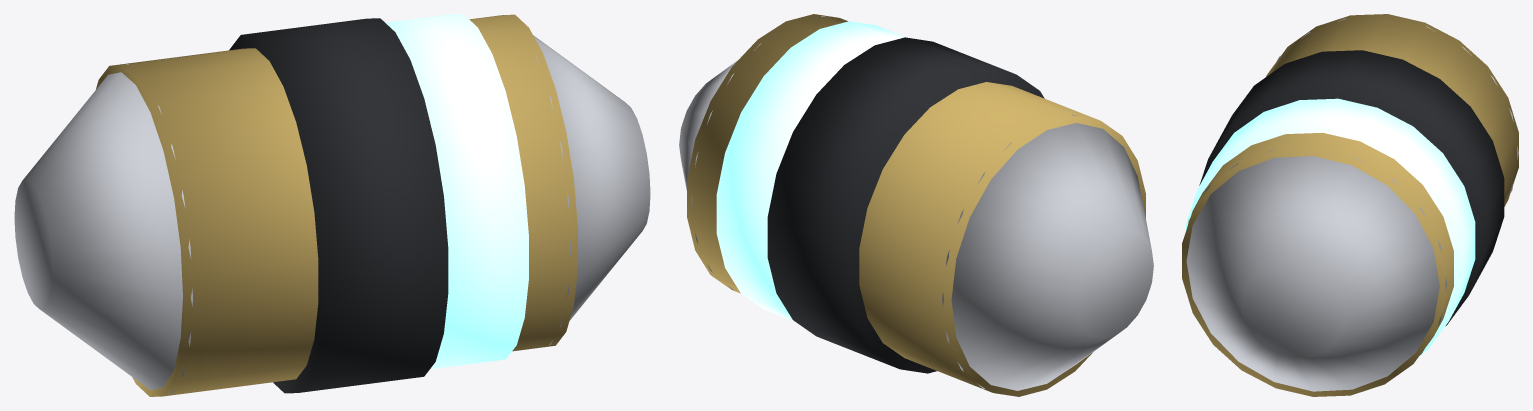
The picture shows the model from 3 angles, left to right: view 1: azimuth 30°, elevation 25°; view 2: azimuth 150°, elevation 25°; view 3: azimuth 270°, elevation 25°; orthographic projection. The views are drawn at different scales.
Visible parts, largest first — view 1: mta_cap_t3_body, mta_cap_t3_band, mta_cap_t3_nose_0, mta_cap_t3_win, mta_cap_t3_nose_1; view 2: mta_cap_t3_body, mta_cap_t3_nose_0, mta_cap_t3_band, mta_cap_t3_win, mta_cap_t3_nose_1; view 3: mta_cap_t3_nose_1, mta_cap_t3_body, mta_cap_t3_band, mta_cap_t3_win.
Part boxes in pixels (box(x1,y1,x2,y2)): mta_cap_t3_body: box(96, 14, 577, 396); mta_cap_t3_band: box(229, 18, 448, 393); mta_cap_t3_nose_0: box(14, 64, 192, 393); mta_cap_t3_win: box(385, 14, 528, 369); mta_cap_t3_nose_1: box(502, 15, 650, 345); mta_cap_t3_body: box(687, 14, 1145, 396); mta_cap_t3_nose_0: box(942, 114, 1153, 390); mta_cap_t3_band: box(767, 37, 1044, 373); mta_cap_t3_win: box(716, 21, 906, 321); mta_cap_t3_nose_1: box(679, 16, 825, 290); mta_cap_t3_nose_1: box(1186, 149, 1446, 391); mta_cap_t3_body: box(1182, 14, 1518, 396); mta_cap_t3_band: box(1199, 50, 1504, 326); mta_cap_t3_win: box(1186, 98, 1475, 355).
Size of the model in its own units: 0.0777 by 0.0444 by 0.0508.
